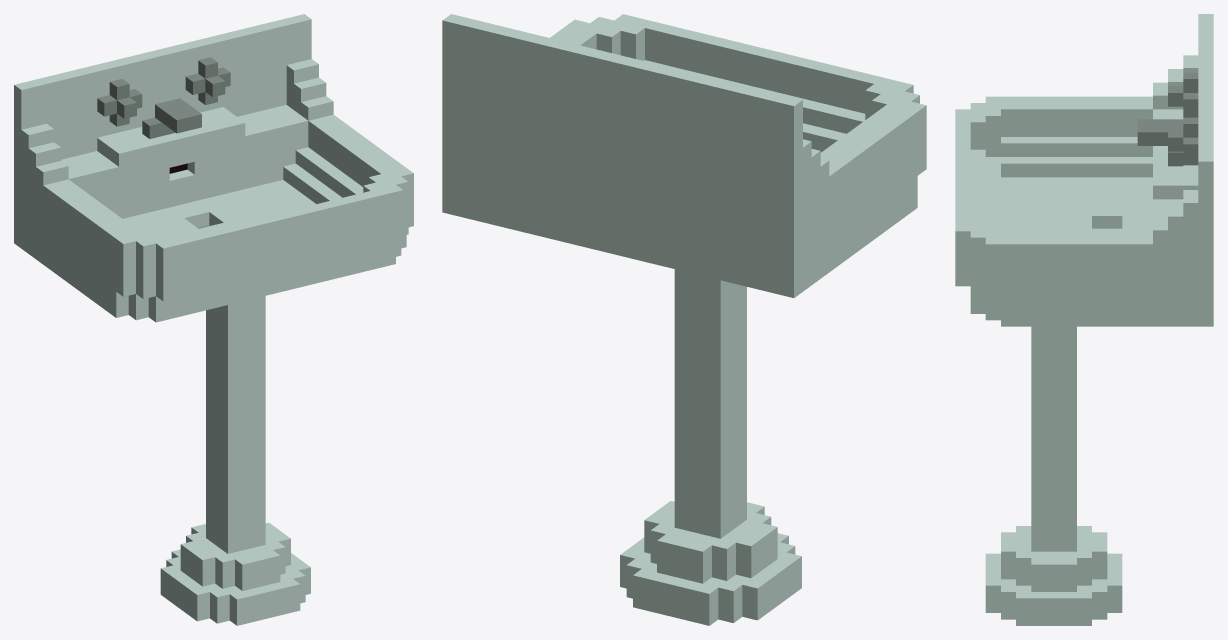
The model's file is Evier.obj.
3 renders of one model, left to right at view 1: azimuth 30°, elevation 25°; view 2: azimuth 150°, elevation 25°; view 3: azimuth 270°, elevation 25°, orthographic. The views are drawn at different scales.
Parts seen in each view (by area): view 1: Evier; view 2: Evier; view 3: Evier.
Part boxes in pixels (x1,y1,x2,y2): Evier: (14, 14, 413, 625); Evier: (442, 14, 926, 625); Evier: (955, 14, 1213, 625).
Size of the model in its own units: 23 by 37 by 17.
Materials: 1 (1 with a texture image).
